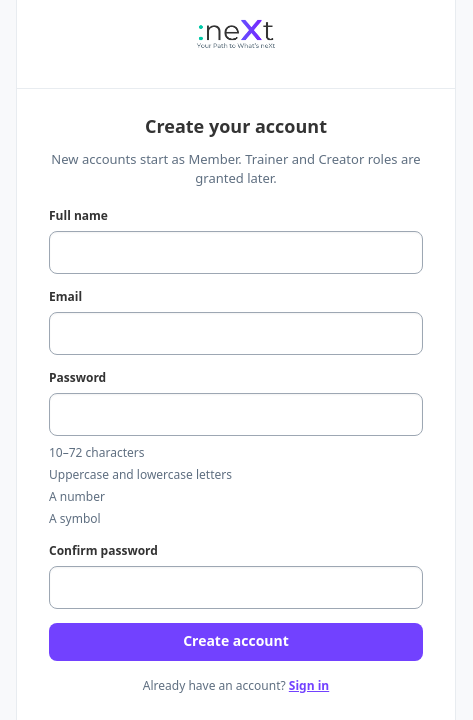
Test: Account registration › waits for email verification instead of signing the member in
The width and height of the screenshot is (473, 720).
Type "New Learner" into the field labelled "Full name" at (236,252), box top-left (49, 230), bottom-right (423, 274)
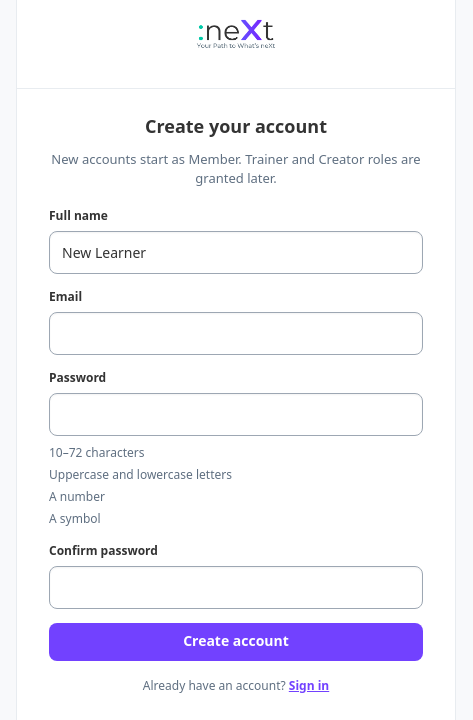
Type "new.learner@colearnx.test" into the field labelled "Email" at (236,333), box top-left (49, 312), bottom-right (423, 354)
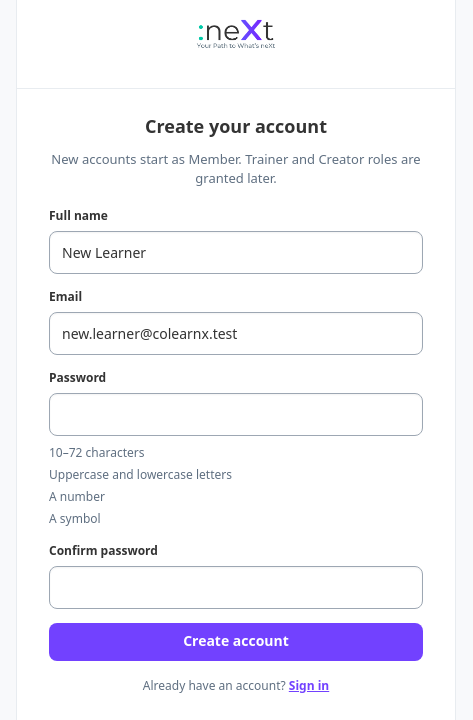
Type "Password123!" into the password field labelled "Password" at (236,414), box top-left (49, 392), bottom-right (423, 436)
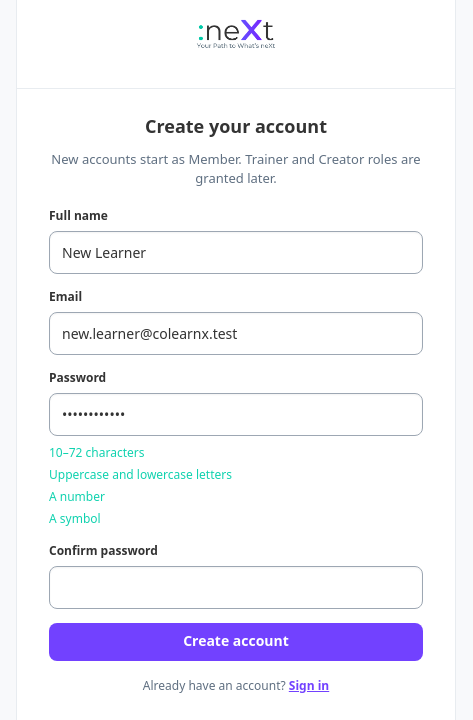
Type "Password123!" into the password field labelled "Confirm password" at (236,587), box top-left (49, 566), bottom-right (423, 608)
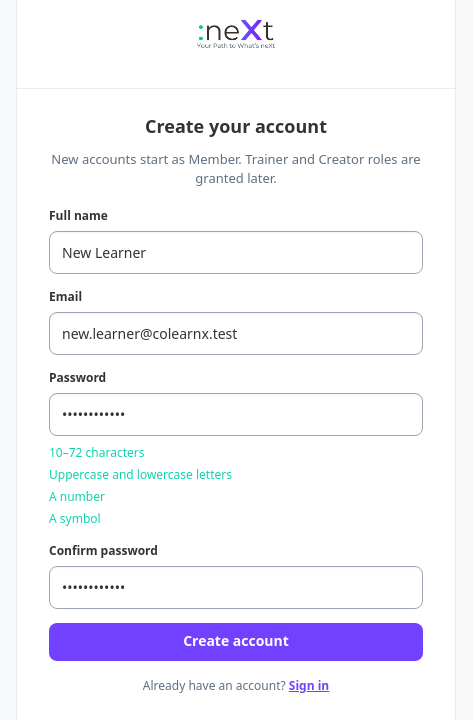
Click the button "Create account" at (236,642), box top-left (49, 622), bottom-right (423, 660)
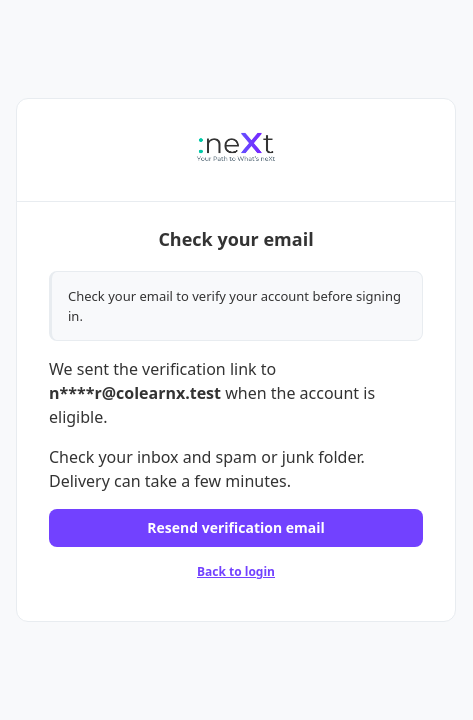
Now the text "Check your email to verify your account before signing in." is shown, box top-left (49, 271), bottom-right (423, 341)
